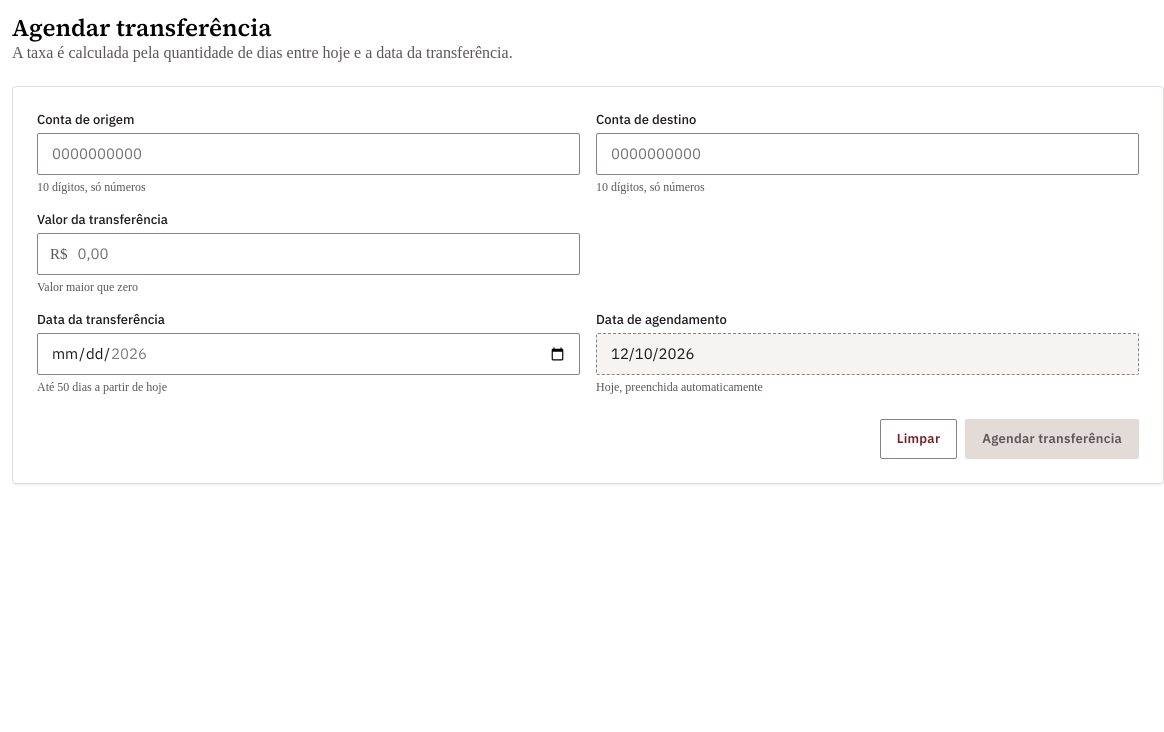
AgendarView › mostra erro e bloqueia quando não há taxa para a data
This screenshot has width=1164, height=732.
In the field labelled "Conta de origem 10 dígitos, só números": (308, 154) [50,142,567,166], type "1234567890"
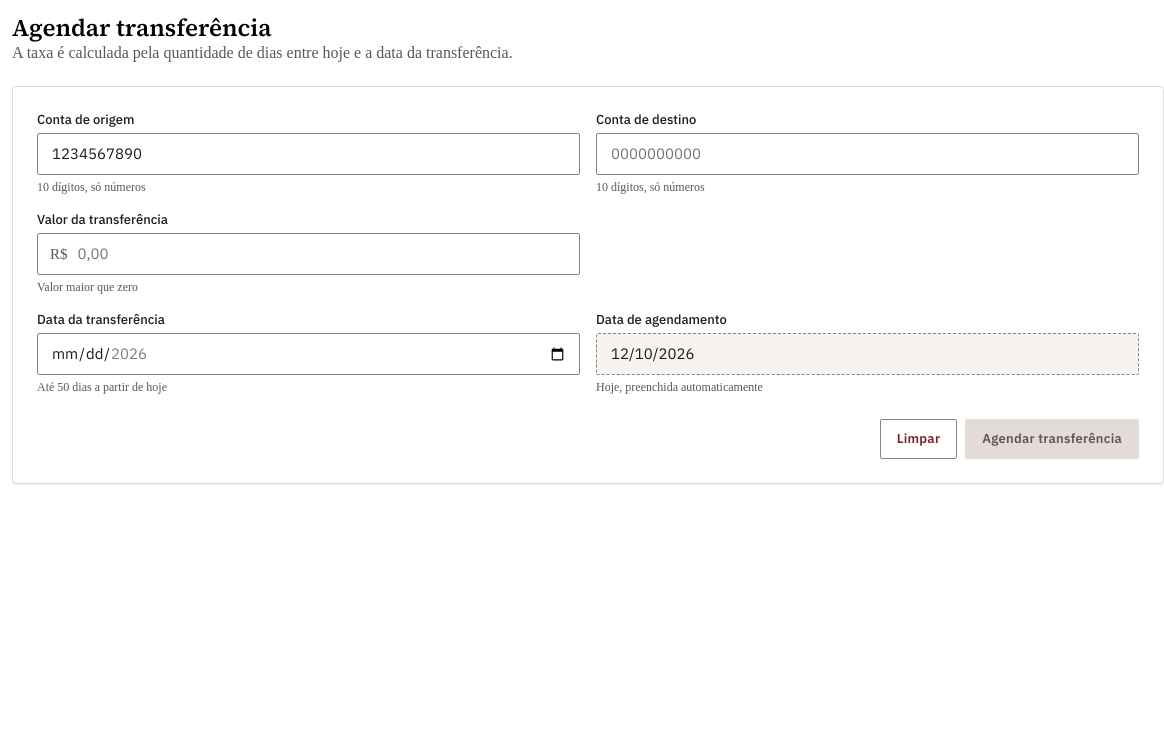
In the field labelled "Conta de destino 10 dígitos, só números": (868, 154) [609,142,1126,166], type "0987654321"
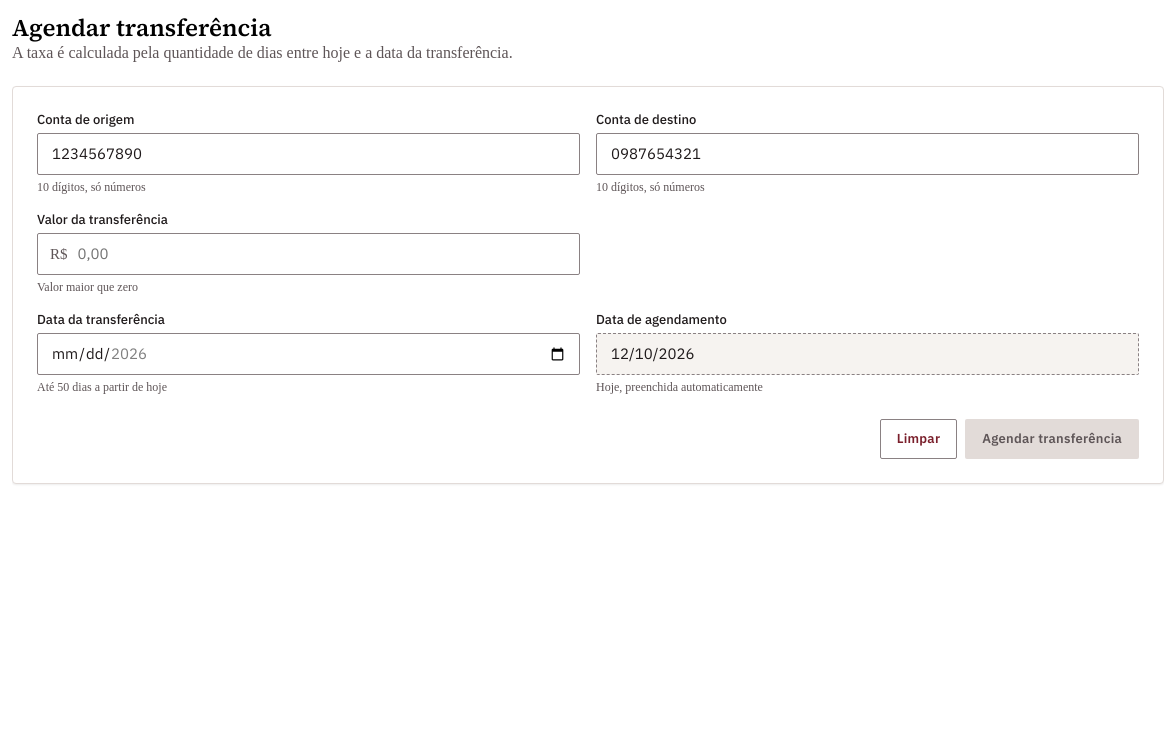
In the field labelled "Valor da transferência R$ Valor maior que zero": (321, 254) [76,242,567,266], type "1000"
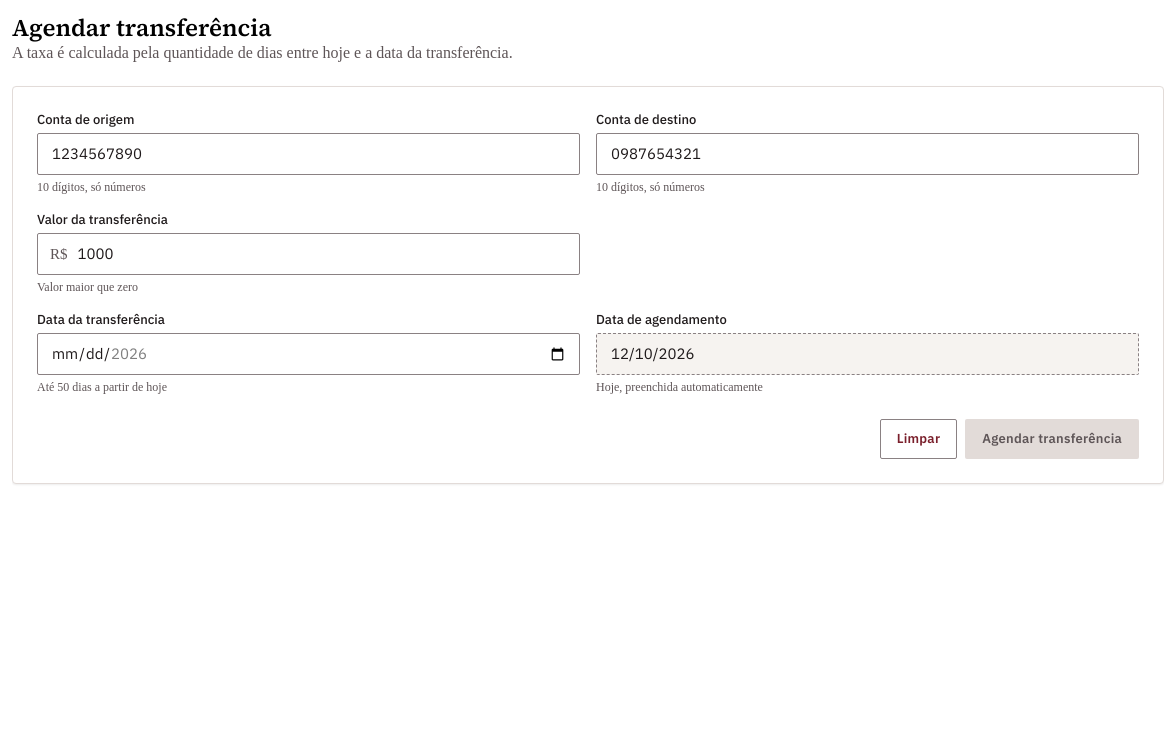
In the date field labelled "Data da transferência Até 50 dias a partir de hoje": (308, 354) [50,342,567,366], type "2026-12-10"
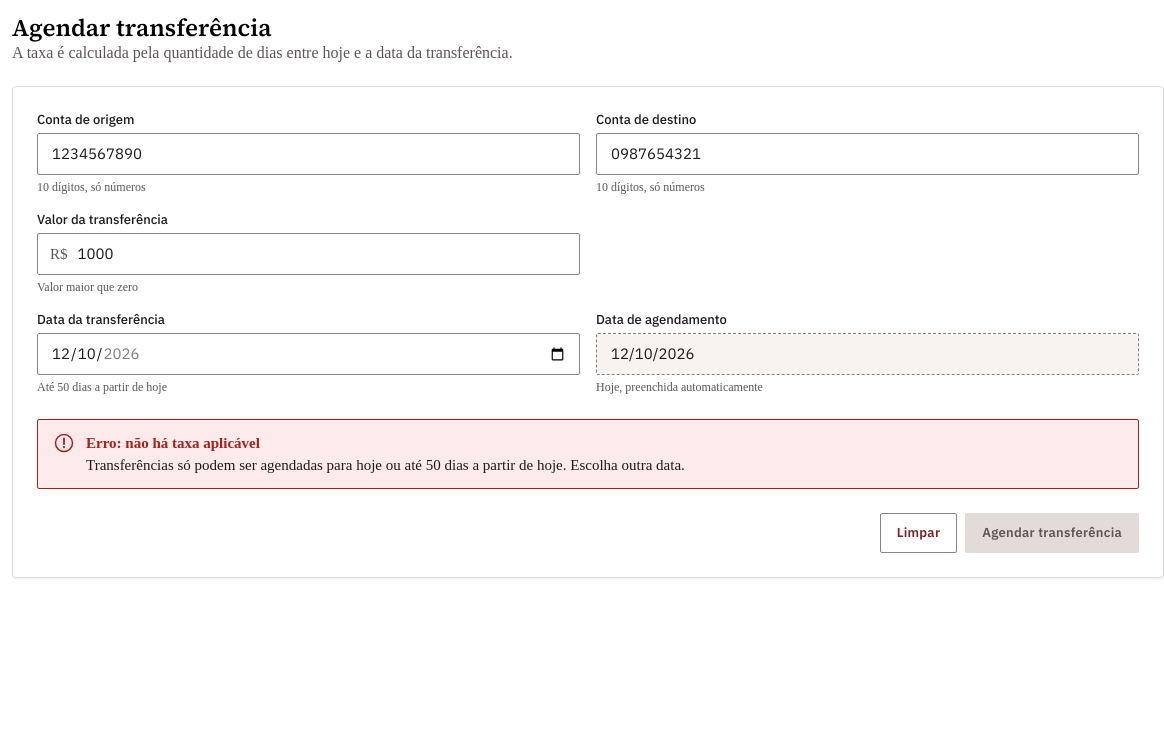
Expected: the submit button is disabled, [965,513,1139,553]
Now the message shows "Erro: não há taxa aplicável", box [86,435,260,451]
